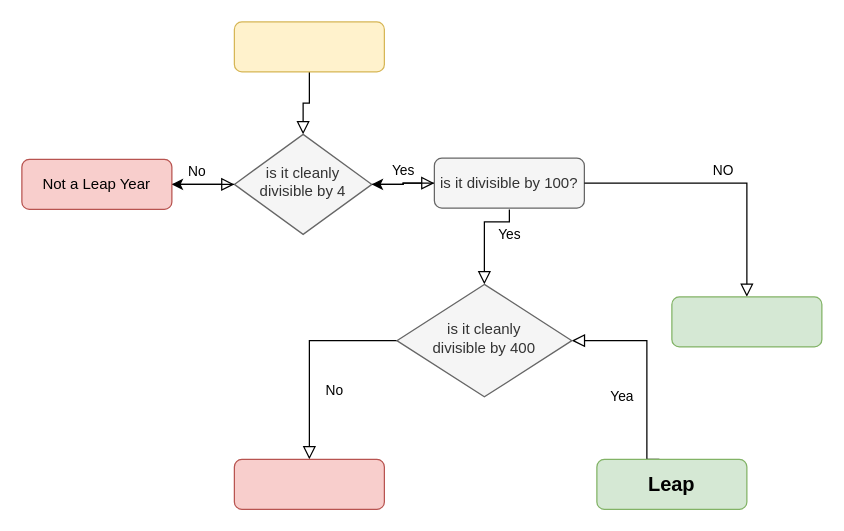
Some shapes in this 844 by 531 pixel diagram are drawn without their labels. Here are the shapes that lost their labels. From the top down, the box of each, then its label:
(233, 21, 384, 72): Start
(671, 296, 822, 347): Leap Year
(233, 458, 384, 509): Not Leap
